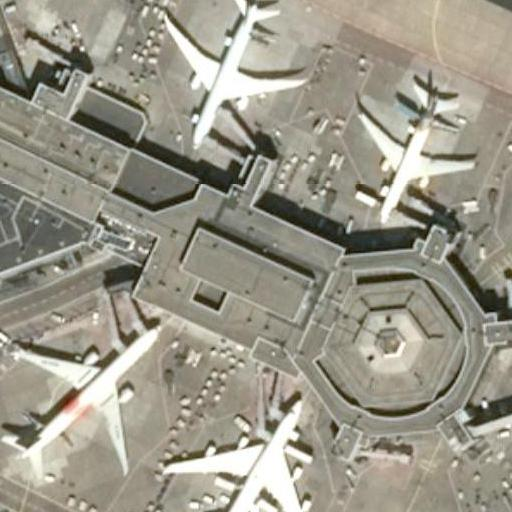Aircraft: (0, 295, 175, 486), (151, 0, 313, 154), (155, 378, 330, 512), (347, 66, 483, 224)
